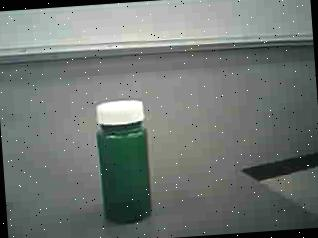Bottle C: (80, 88, 170, 236)
